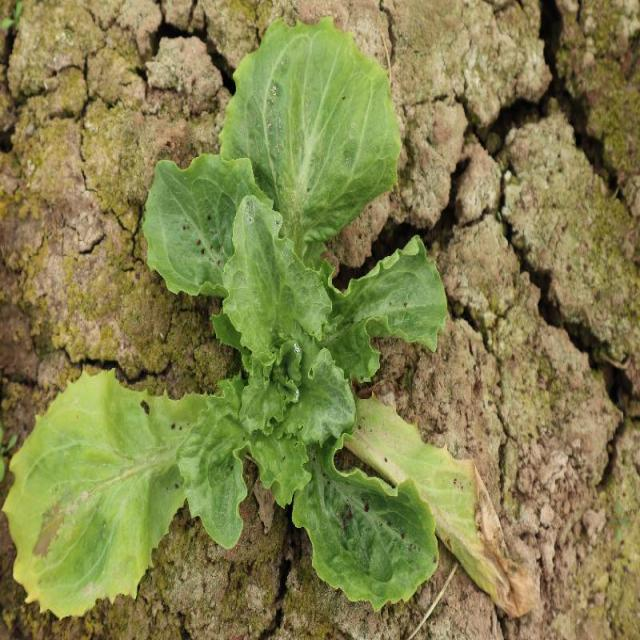crop: (4, 13, 450, 620)
